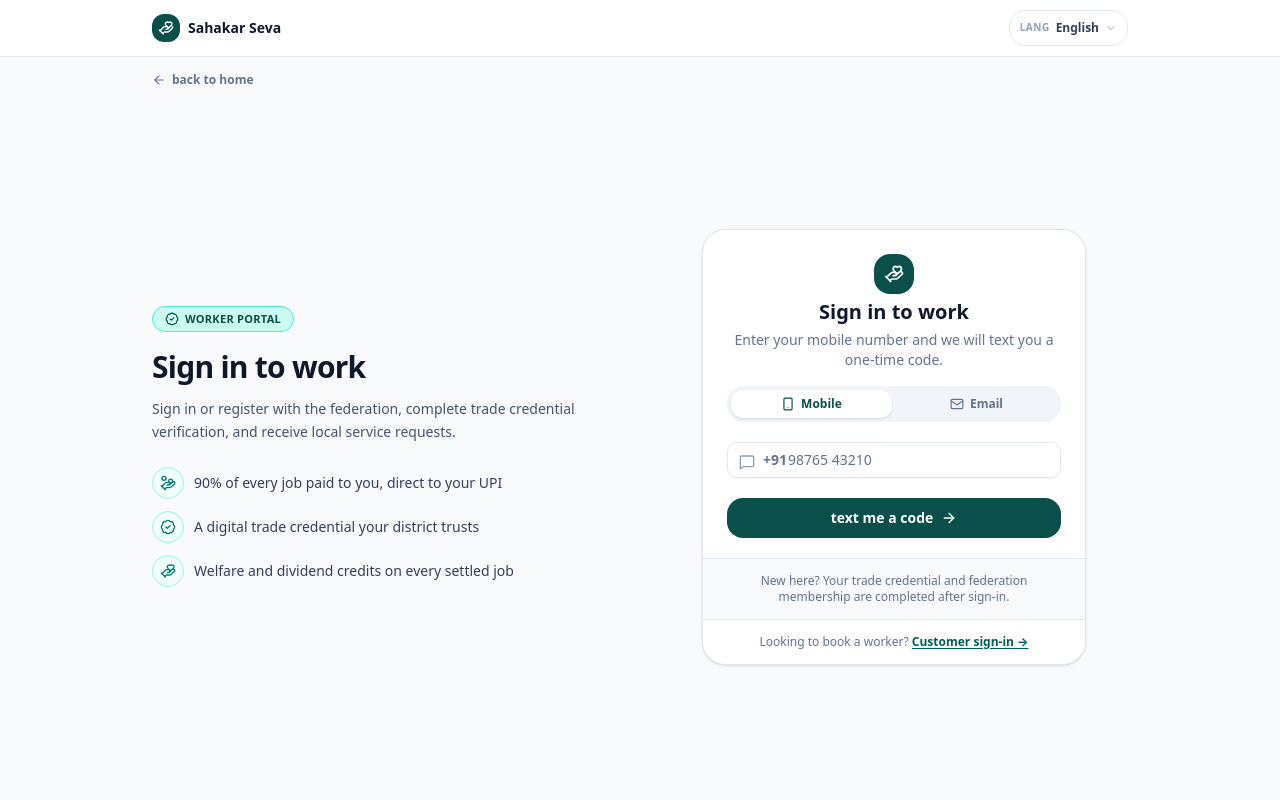
it: auth pages › offers email as a second tab on the worker sign-in
Click the button "Email" at (976, 404), box [896, 390, 1057, 418]
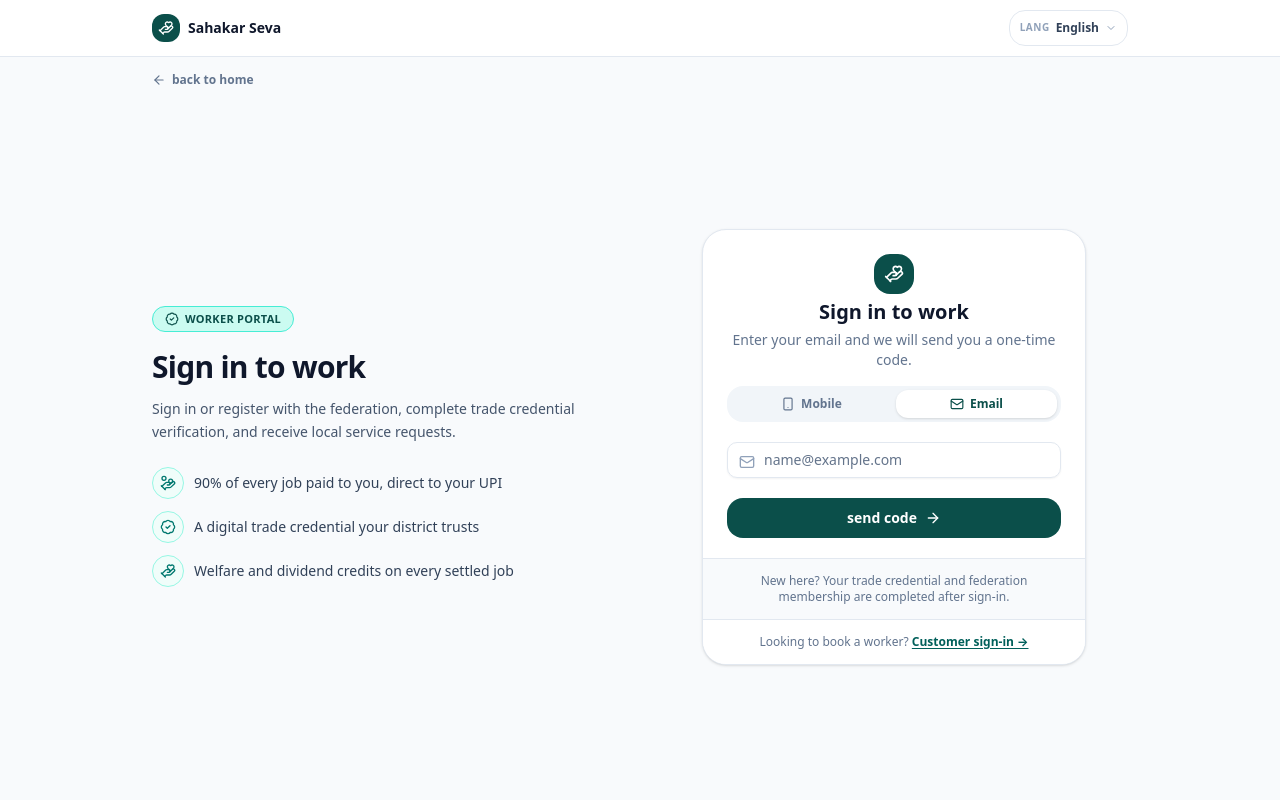
Expected: the field named "email" is shown, [727, 442, 1061, 478]
Expected: the field named "phone" is gone
